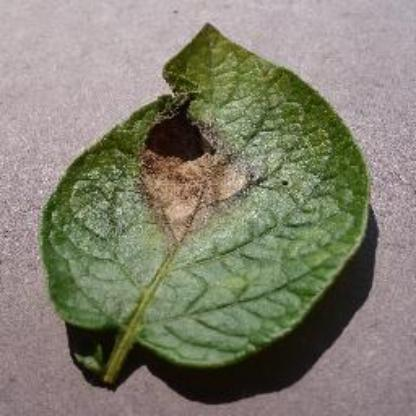Late-Blight: (18, 15, 404, 407)
